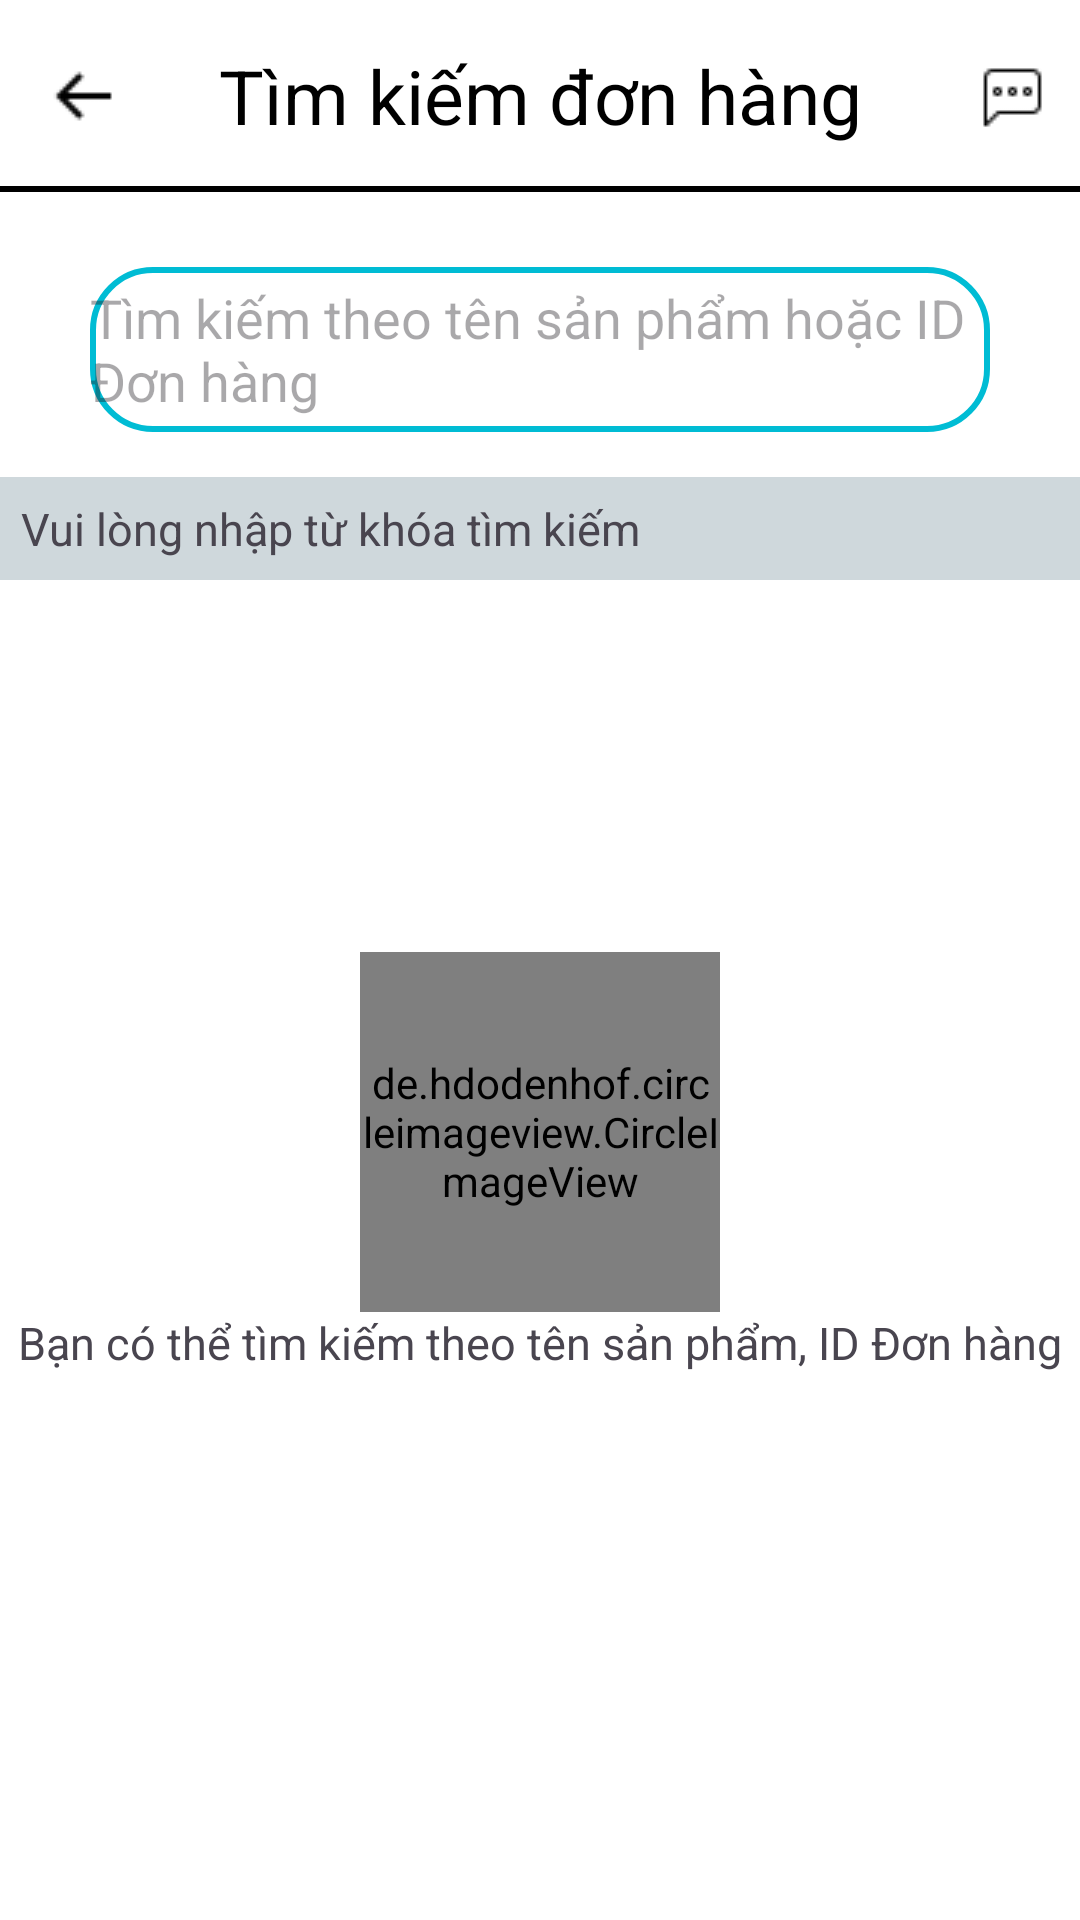

Named icons in this screenshot (1080*1920) and their centers, [x,y]:
backicon: [84,96]
messageicon: [1012,97]
